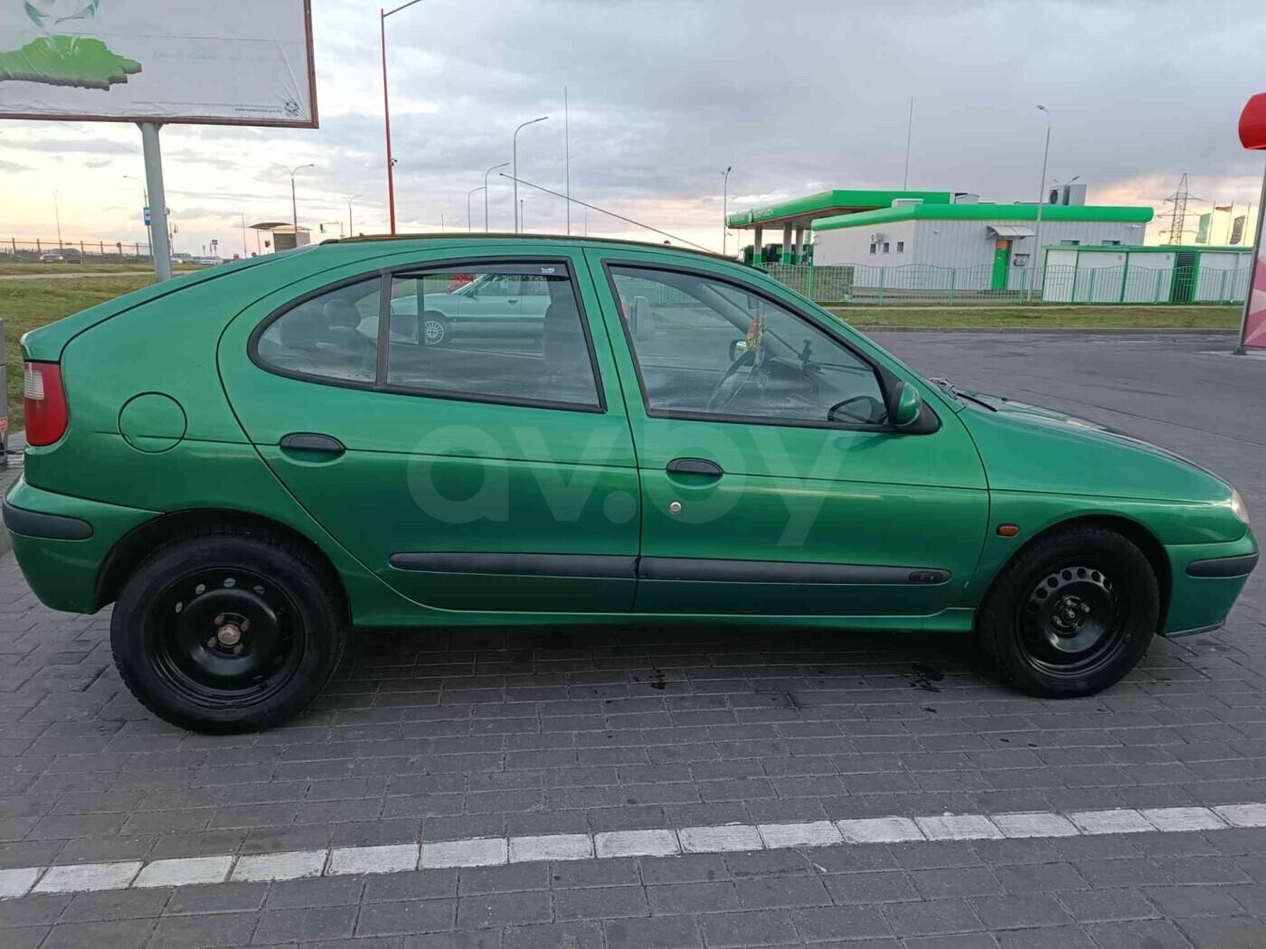Megane_1999-2003: (1, 221, 1266, 732)
